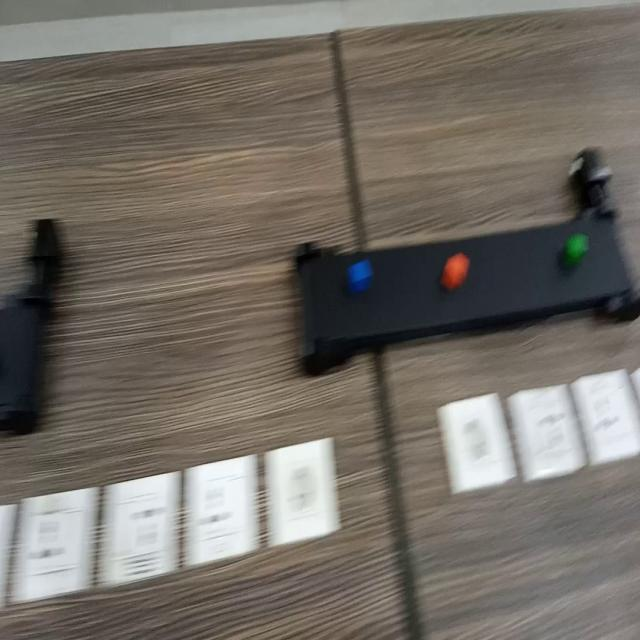cube: (346, 252, 380, 296), (564, 229, 590, 274)
